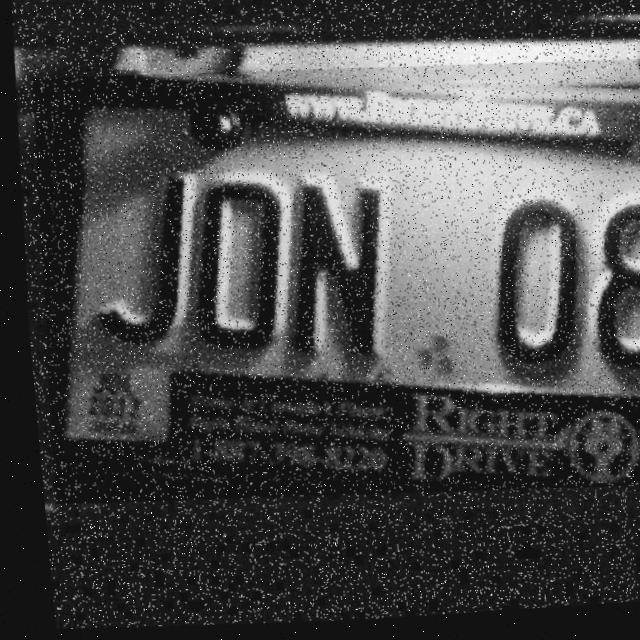LicensePlate: (16, 46, 640, 525)
